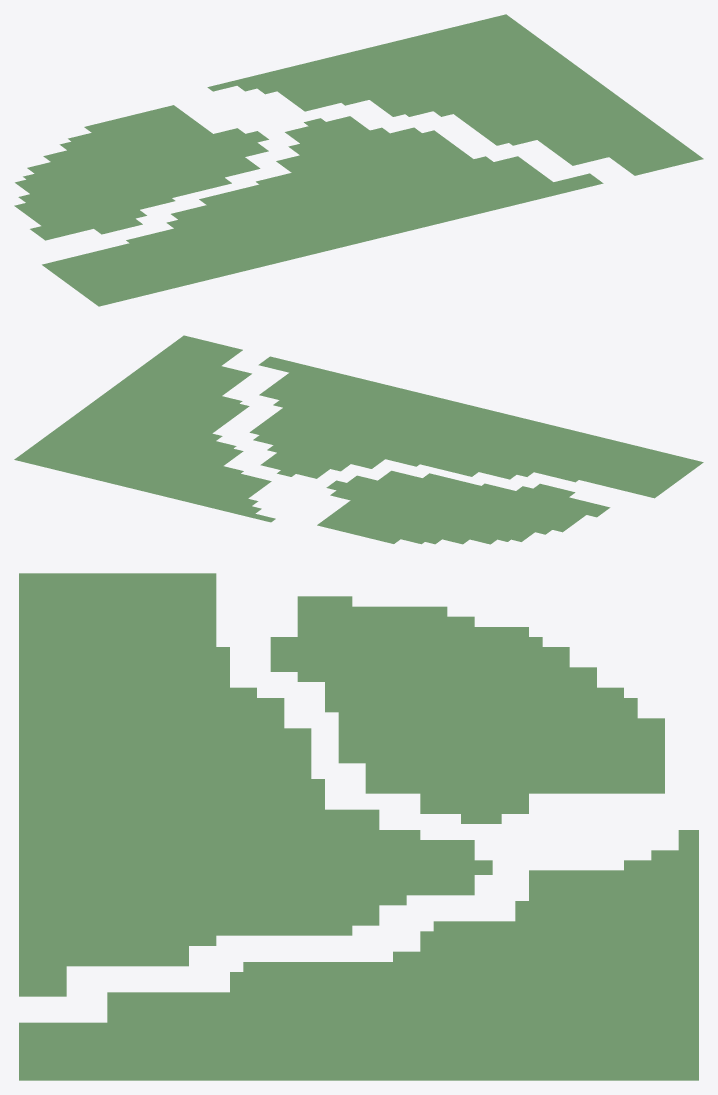
File: Mapa02.fbx
3 views of the same model, one above another, from view 1: azimuth 30°, elevation 25°; view 2: azimuth 150°, elevation 25°; view 3: azimuth 270°, elevation 25° (orthographic). The views are drawn at different scales.
Parts seen in each view (by area): view 1: Mapa1; view 2: Mapa1; view 3: Mapa1.
Boxes of the visible parts, left/top/right/bottom form: Mapa1: left=14, top=14, right=703, bottom=306; Mapa1: left=14, top=335, right=703, bottom=544; Mapa1: left=19, top=573, right=698, bottom=1080.
Size of the model in its own units: 21709 by 0.00146 by 12288.
